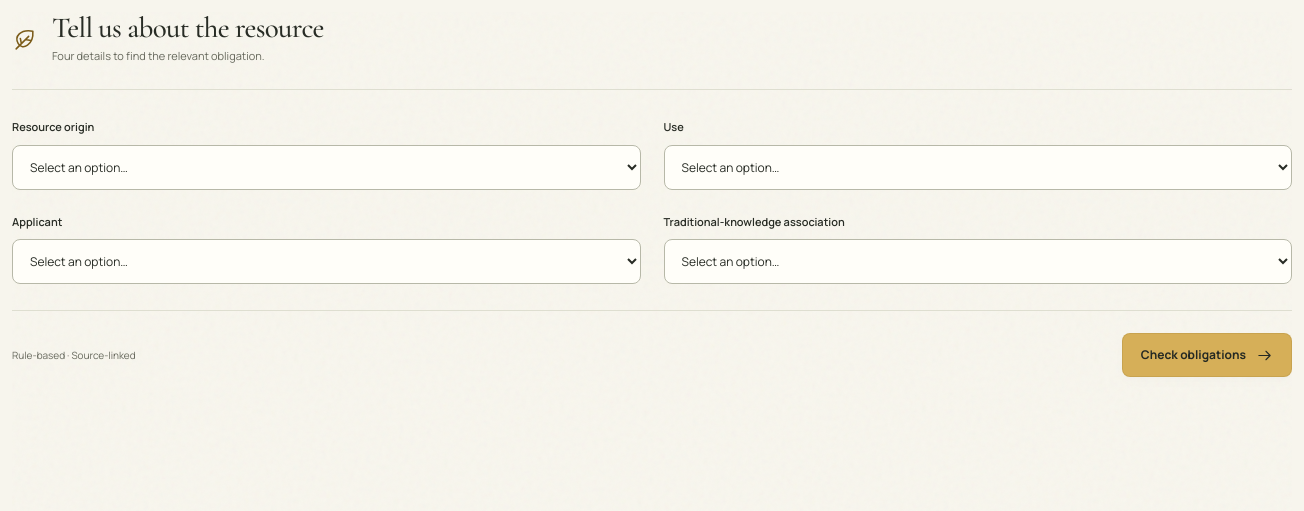
it: wizards › ABS wizard shows insufficient info when facts are missing
The width and height of the screenshot is (1304, 511).
Step 1. Click the button with test id "abs-run" → click(1207, 355), box [1122,333,1292,377]
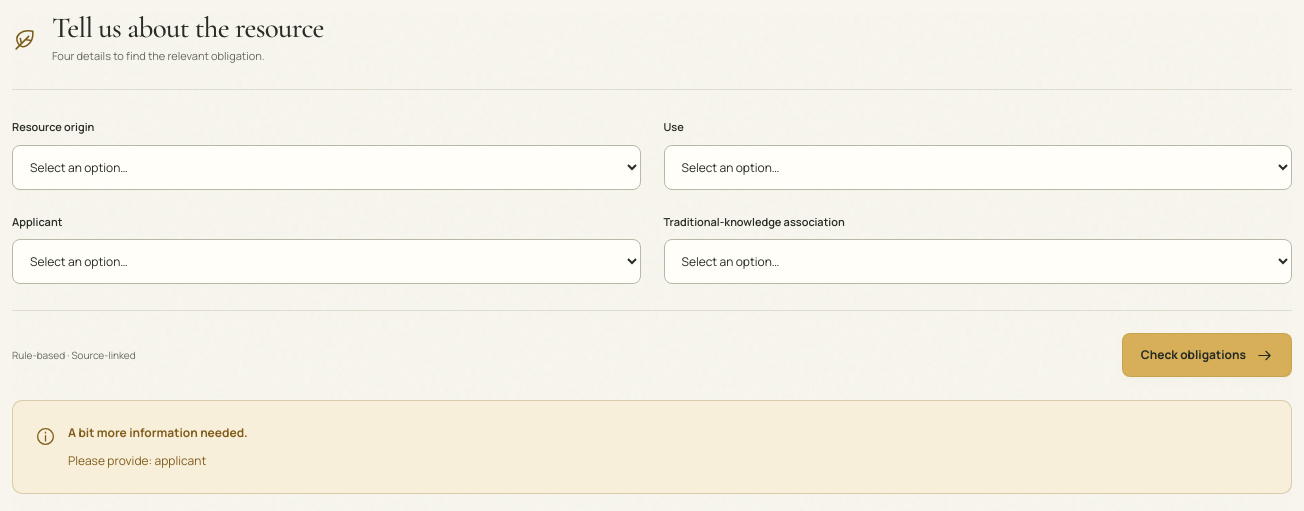
Now the message with test id "insufficient" shows "applicant", box [154,452,206,469]
